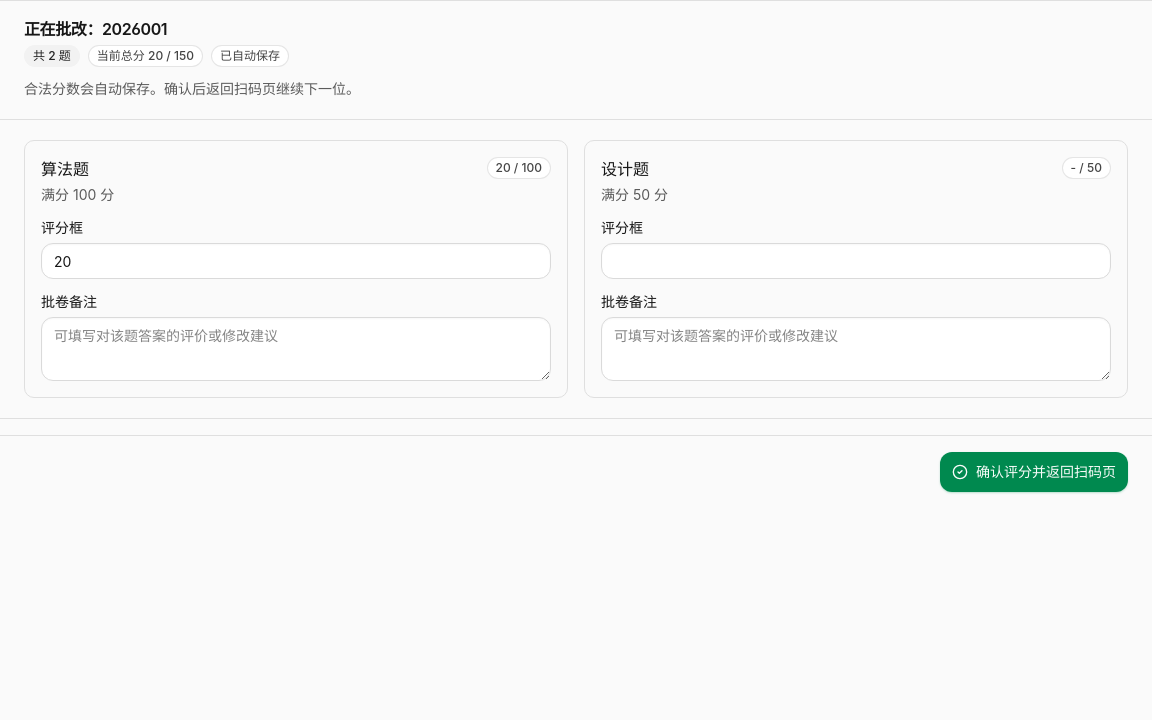
Test: MarkProblemTable › keeps a previous save from clearing an error after the score becomes invalid
Replace the text in the number field labelled "评分框" below "算法题" with "88" at (296, 261), box [41,243,551,279]
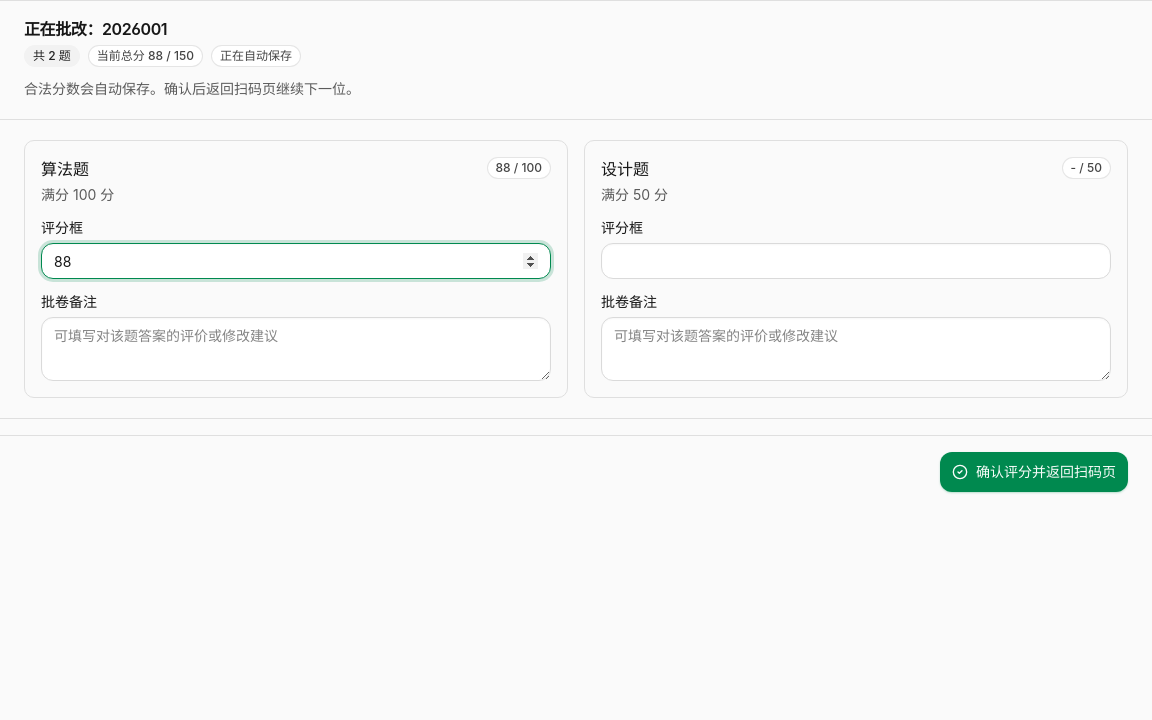
Replace the text in the number field labelled "评分框" below "算法题" with "120" at (296, 261), box [41,243,551,279]
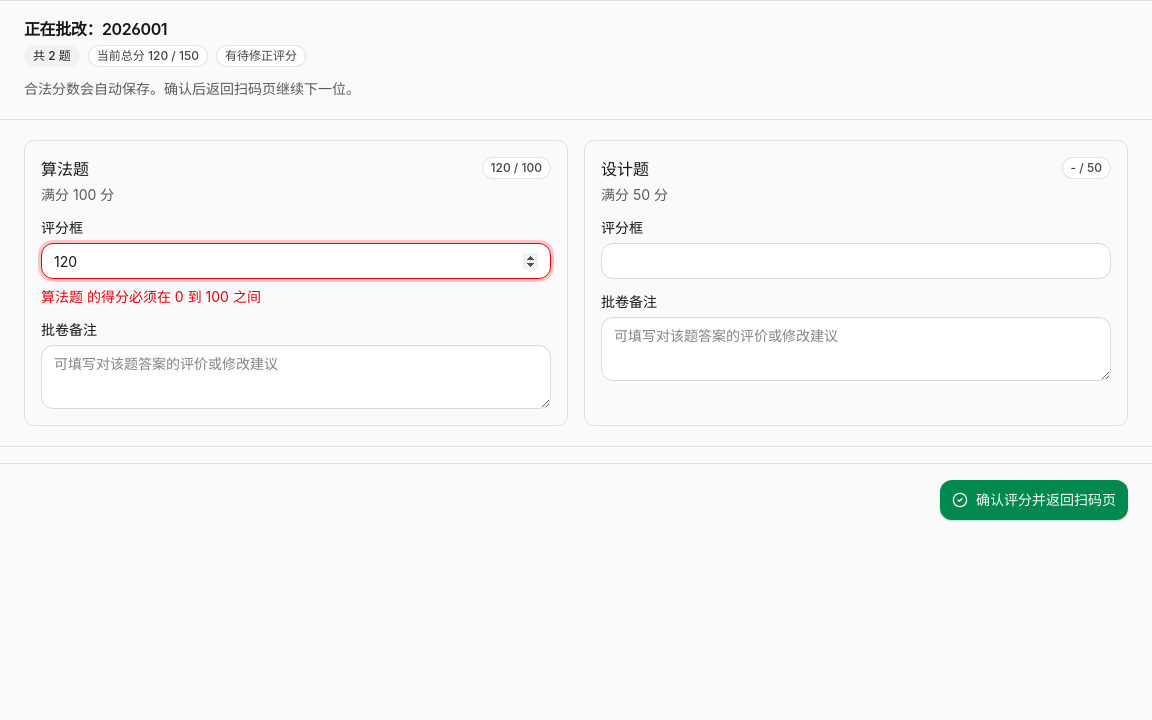
Now the text "算法题 的得分必须在 0 到 100 之间" is shown, box [41,288,261,305]
